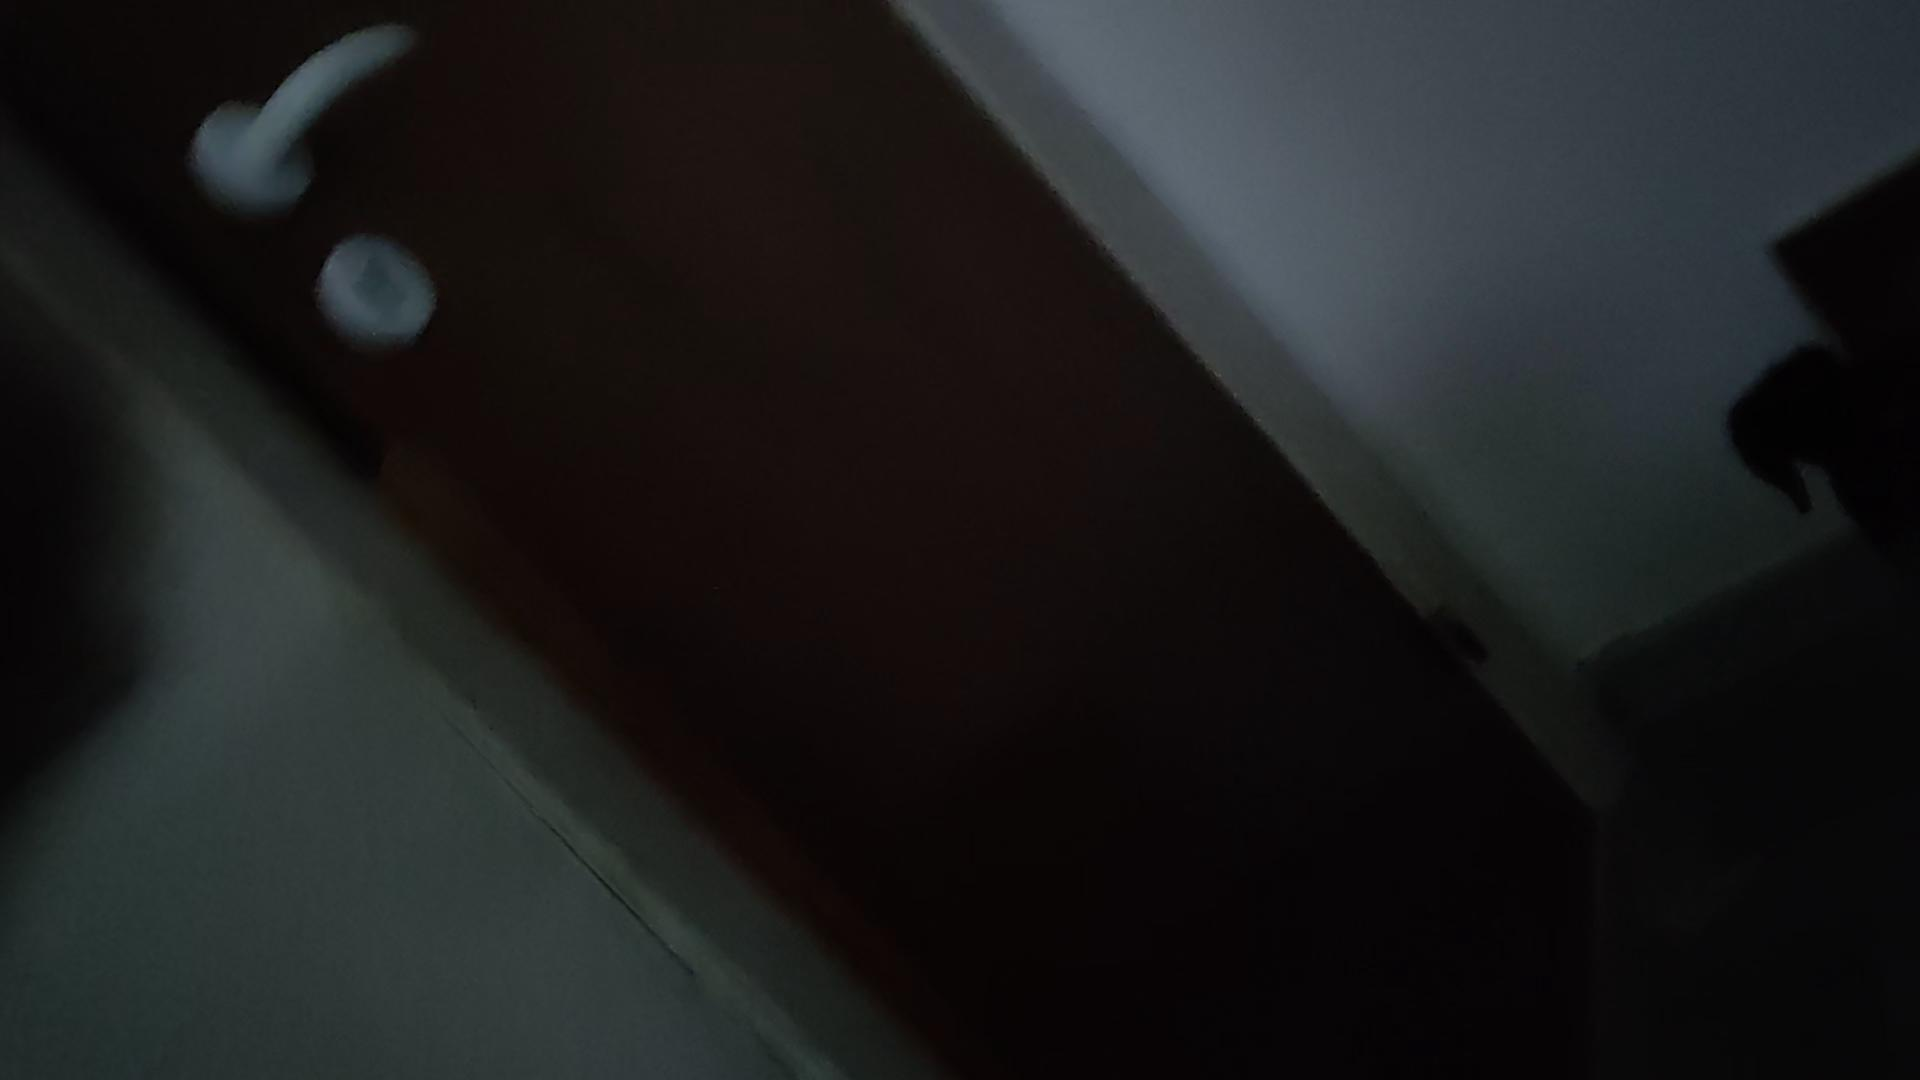Dog: (1712, 281, 1919, 651)
